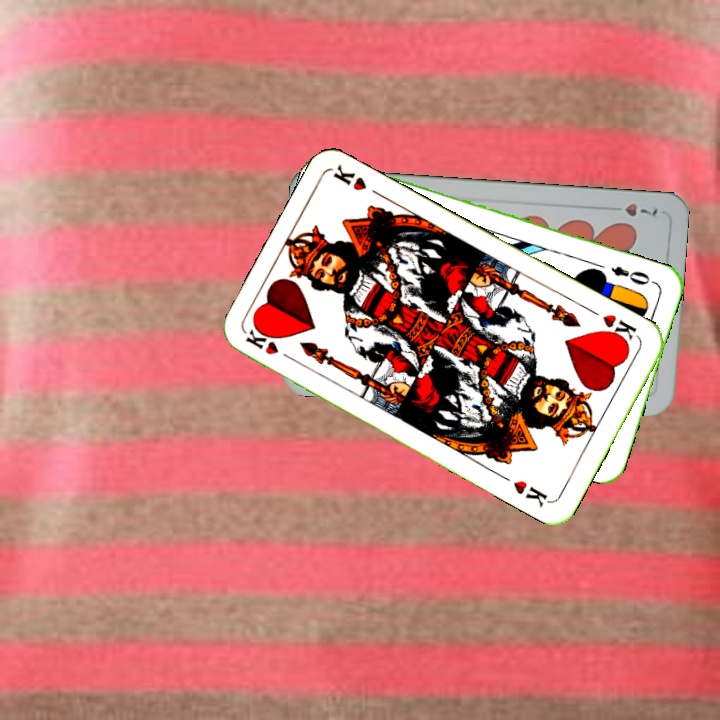EO: (606, 261, 658, 288)
H7: (620, 199, 660, 219)
HK: (241, 324, 298, 364), (598, 310, 641, 347)
